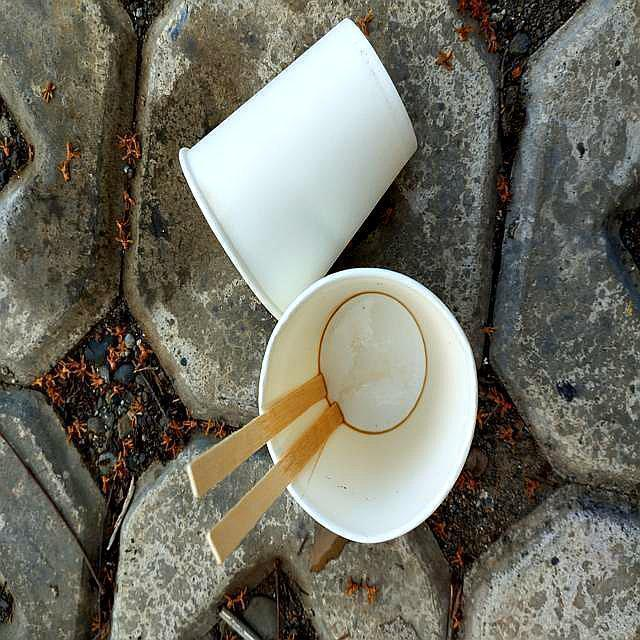Biodegradable: (165, 12, 423, 326), (257, 265, 481, 547)
